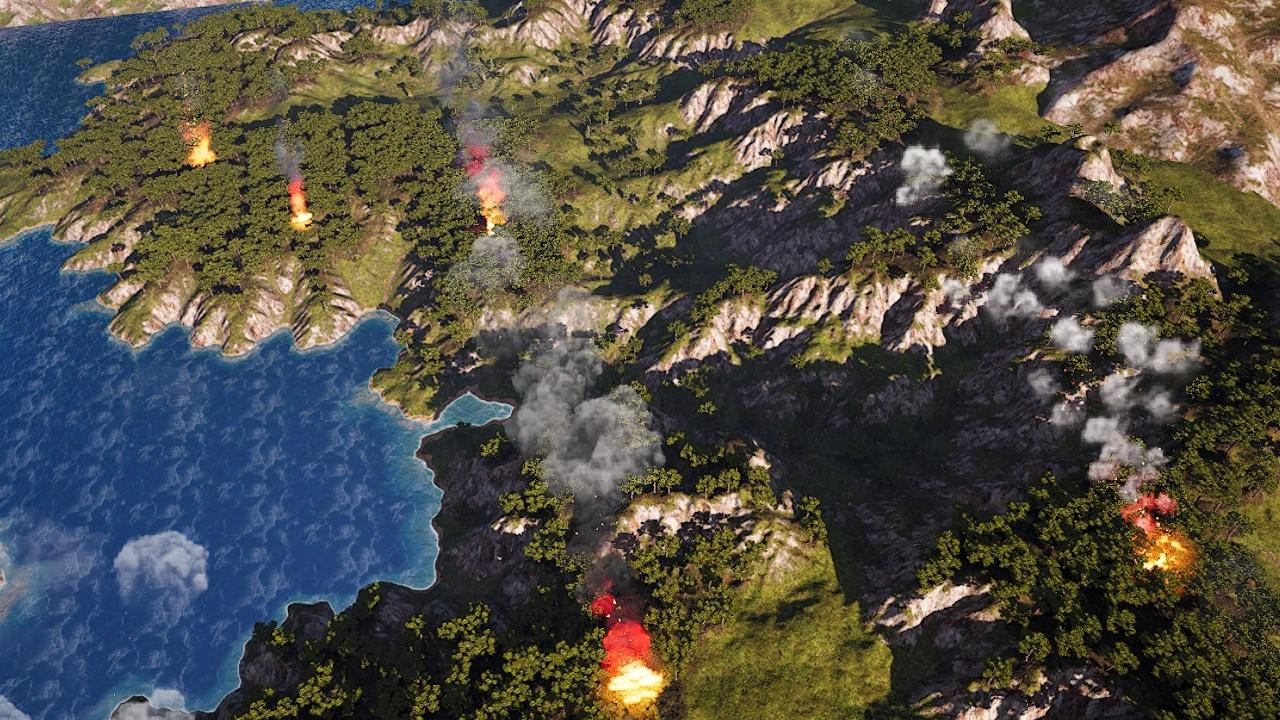fire: (1124, 496, 1185, 572), (605, 657, 666, 706), (473, 183, 508, 238), (184, 122, 218, 164), (288, 184, 312, 226)
smoke: (495, 298, 675, 643), (979, 252, 1213, 492), (421, 38, 557, 283), (893, 121, 1016, 212), (120, 523, 212, 624), (268, 104, 317, 178)
